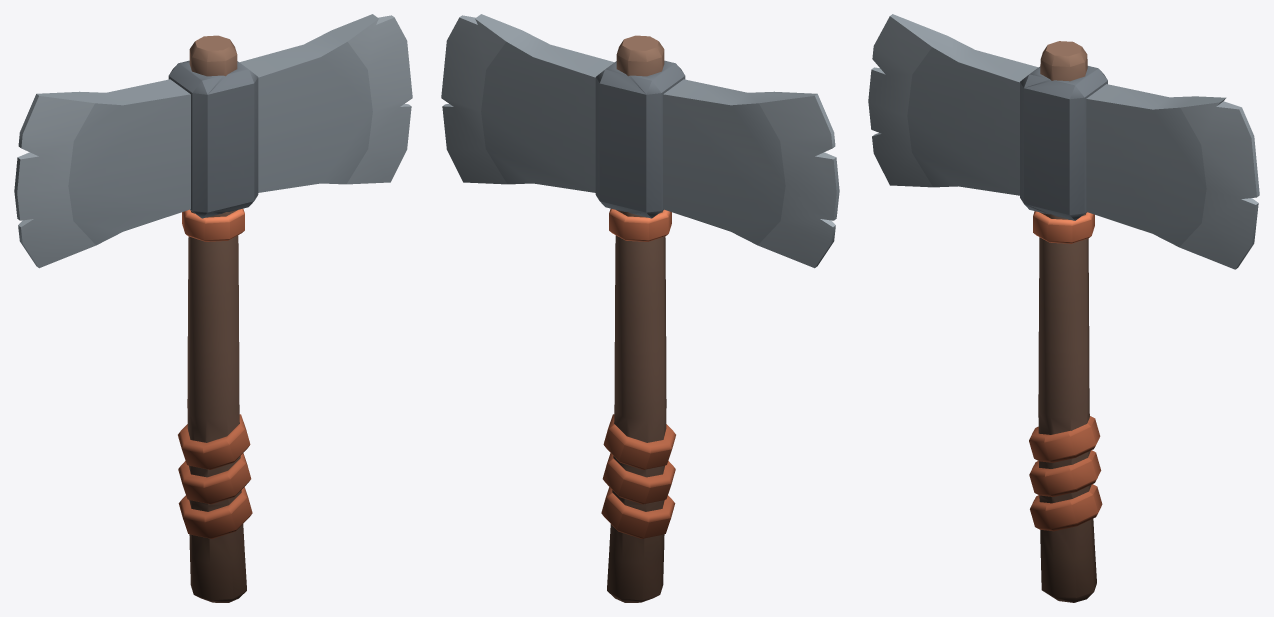
File: battleaxe_iron.glb
3 views of the same model, side by side, from view 1: azimuth 30°, elevation 25°; view 2: azimuth 150°, elevation 25°; view 3: azimuth 330°, elevation 25° (orthographic).
Parts seen in each view (by area): view 1: Item; view 2: Item; view 3: Item.
Boxes of the visible parts, x1,y1,x2,y2 form: Item: (14, 14, 412, 602); Item: (441, 14, 839, 602); Item: (868, 14, 1259, 602).
Size of the model in its own units: 1.44 by 1.93 by 0.2315.
2 materials, 2 textured.
